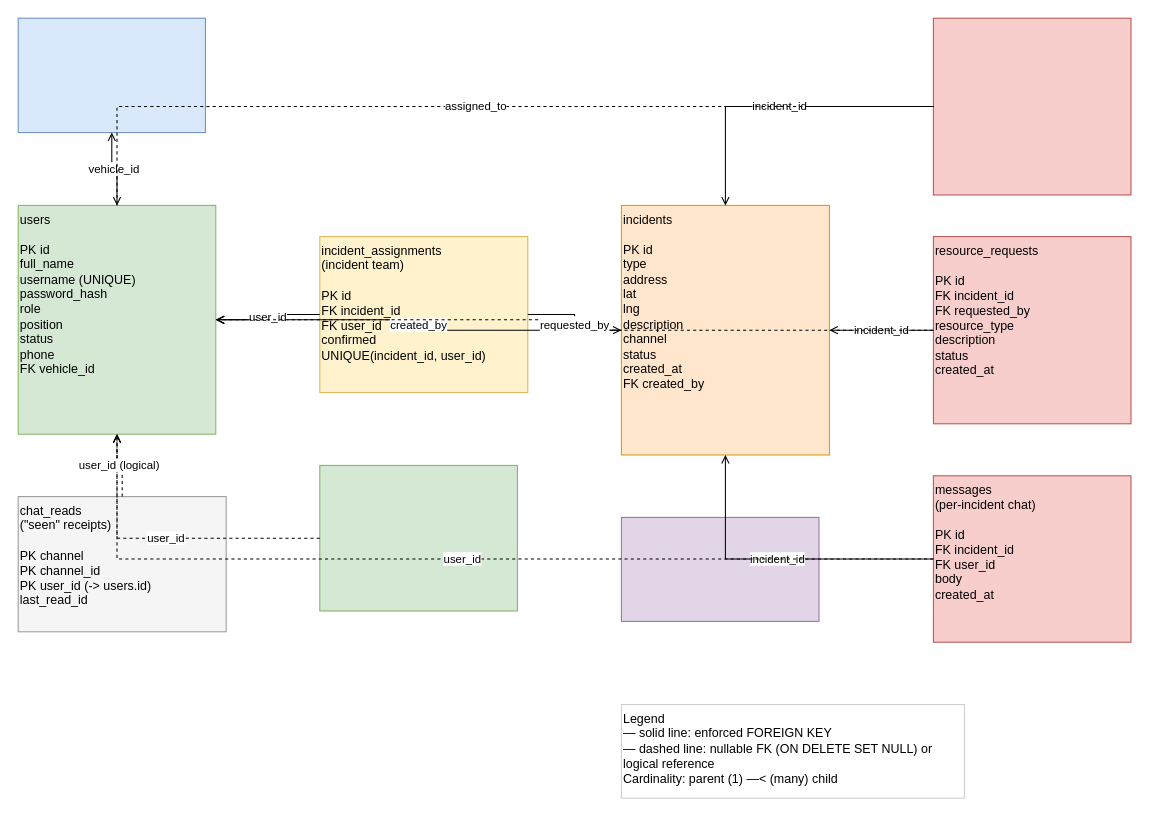
Image size: 1149x816. Some labels were removed from this diagram. Here are the shapes that lost their labels. From the top down, the centre of each, then its label:
[111,75]: vehicles PK id name plate type
[1031,106]: tasks PK id FK incident_id FK assigned_to category description status created_at
[418,537]: ops_messages (operations channel) PK id FK user_id body created_at
[719,568]: message_templates (standalone — no FK) PK id text
